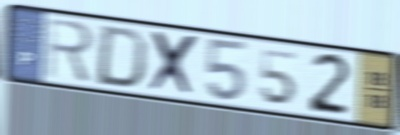2: (308, 51, 353, 119)
5: (205, 37, 251, 104), (257, 45, 300, 107)
D: (92, 23, 151, 91)
R: (43, 15, 96, 85)
X: (147, 28, 202, 100)
